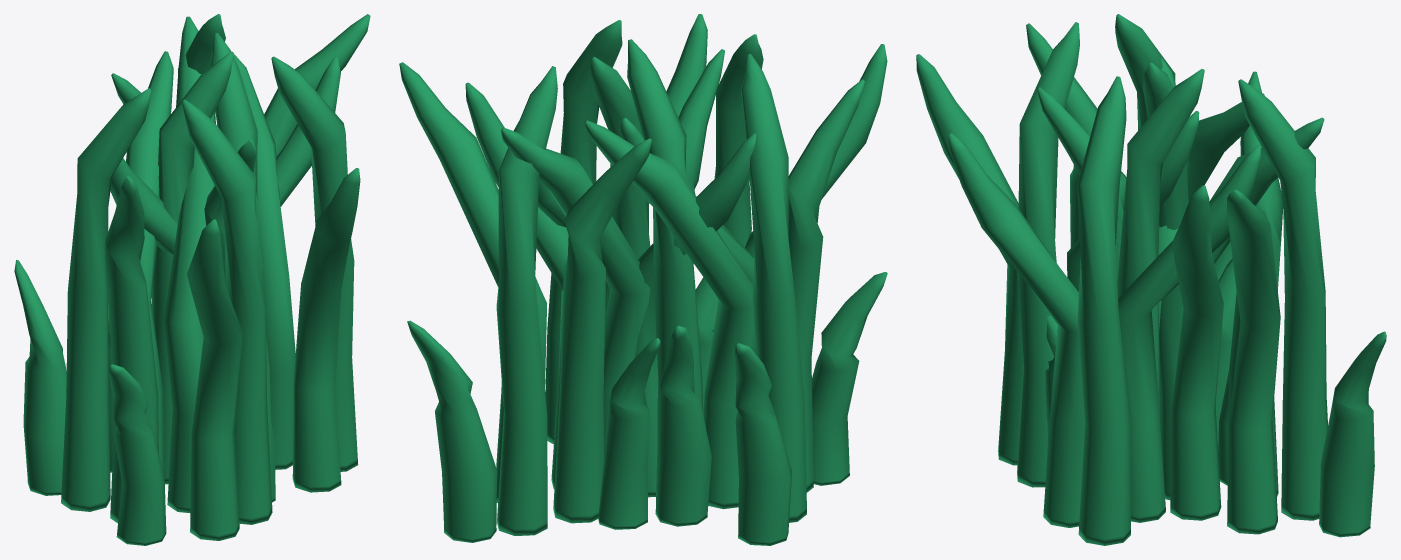
The model's file is grass.glb.
3 renders of one model, left to right at view 1: azimuth 30°, elevation 25°; view 2: azimuth 150°, elevation 25°; view 3: azimuth 270°, elevation 25°, orthographic. The views are drawn at different scales.
Parts seen in each view (by area): view 1: grass.001, grass, grass.002; view 2: grass.002, grass.001, grass; view 3: grass.002, grass, grass.001.
Part boxes in pixels (x1=…): grass.001: x1=14, y1=51, x2=272, y2=545; grass: x1=108, y1=16, x2=360, y2=502; grass.002: x1=110, y1=14, x2=370, y2=420; grass.002: x1=399, y1=56, x2=756, y2=542; grass.001: x1=584, y1=34, x2=887, y2=545; grass: x1=501, y1=14, x2=724, y2=526; grass.002: x1=1117, y1=57, x2=1386, y2=537; grass: x1=948, y1=62, x2=1324, y2=545; grass.001: x1=916, y1=14, x2=1264, y2=487.
Bounding box in the file's own units: 1.32 × 1.45 × 1.42.
